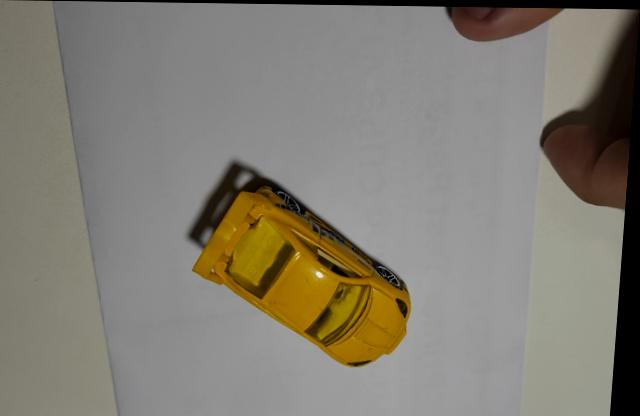07_RHLTURBO: (196, 172, 415, 365)
